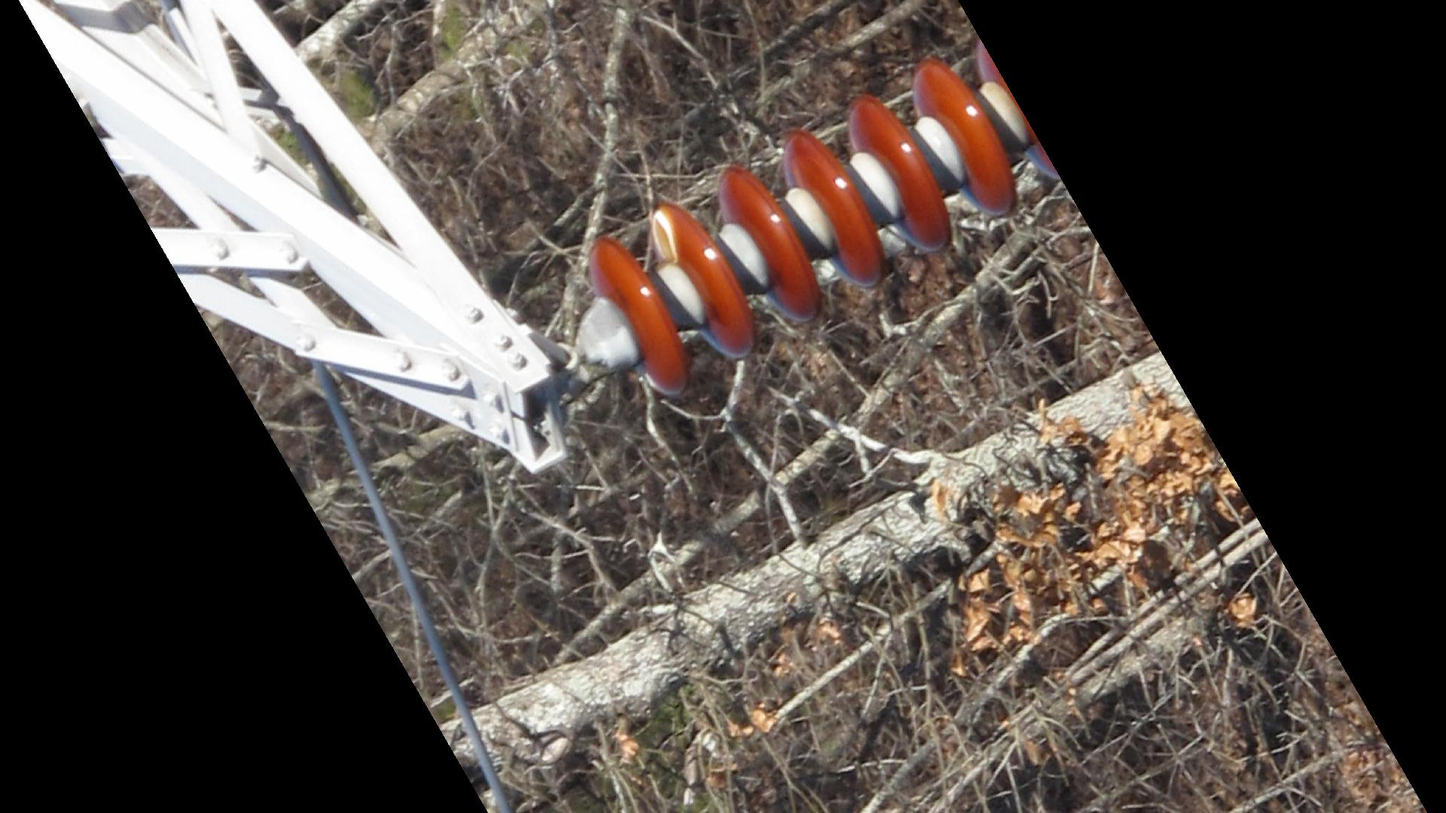insulator: (583, 36, 1063, 403)
insulator_flashover: (650, 208, 682, 266)
